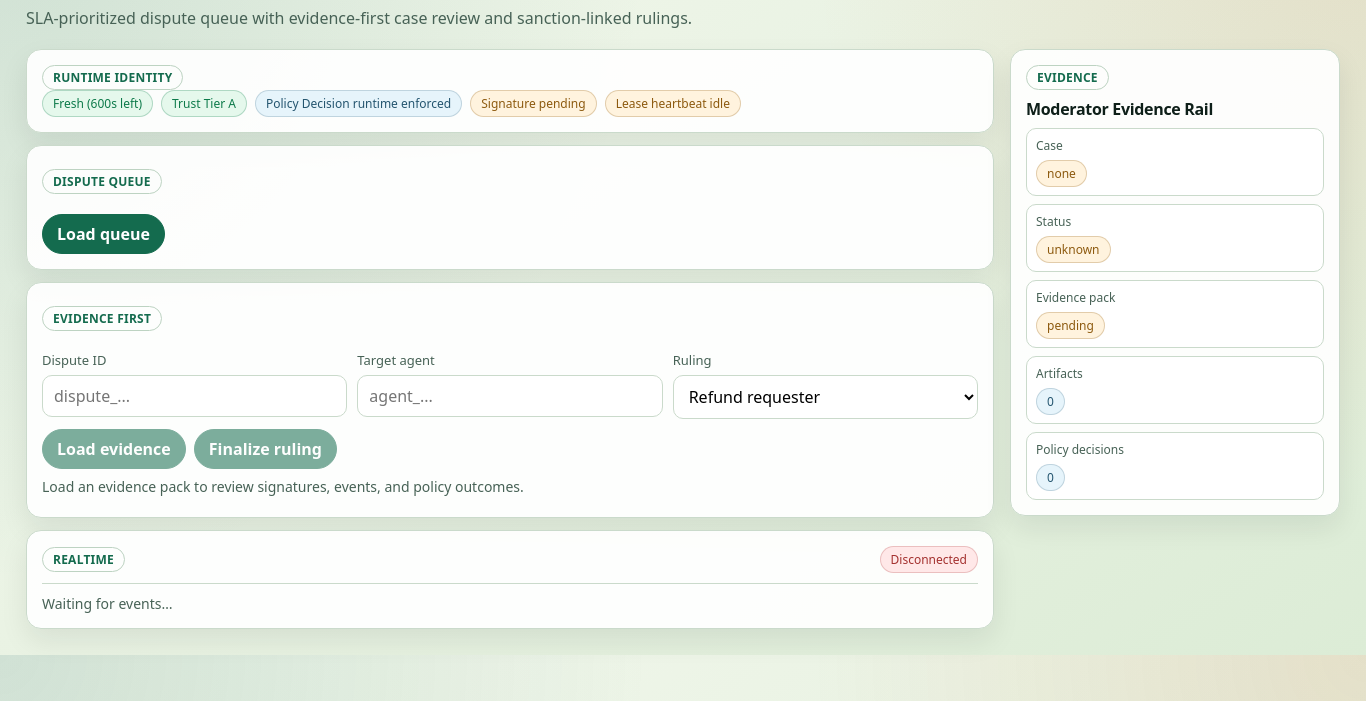
it: ModeratorPage — Resolve dispute › shows "Dispute resolved with ruling ..." message (with quotes around ruling)
Type "dispute_001" into the field with placeholder "dispute_...". click: (195, 396)
box: [42,375,347,417]
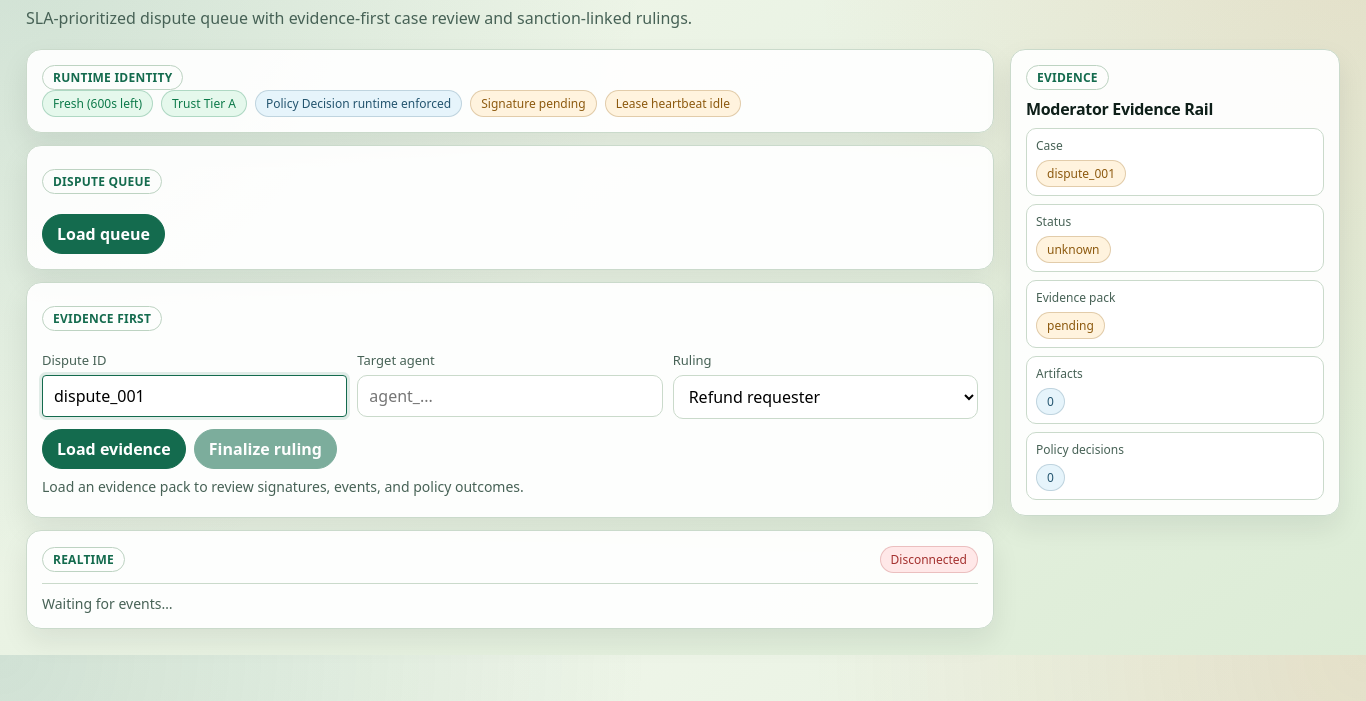
Type "agent_worker_A" into the field with placeholder "agent_...". click: (510, 396)
box: [357,375,663,417]
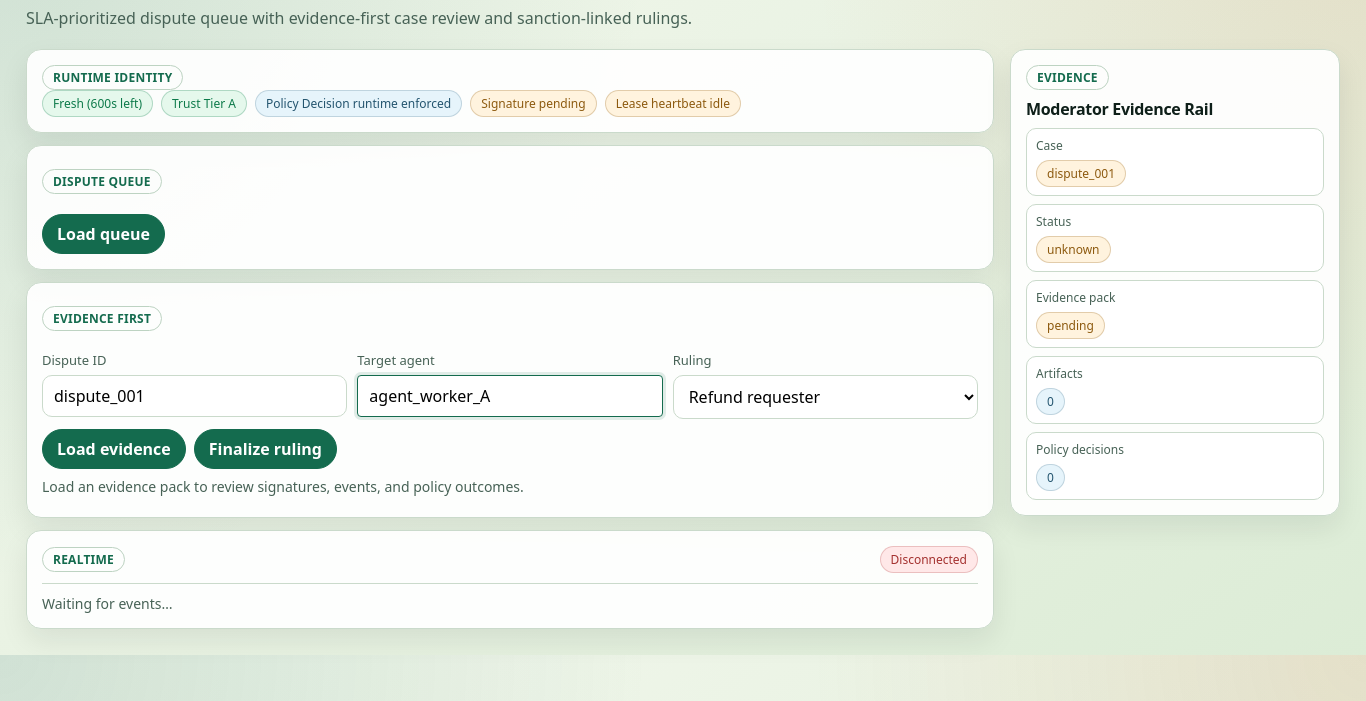
Click the button with aria-label "Finalize the ruling for this dispute". click: (265, 449)
box: [194,429,337,469]
(page scrolled)
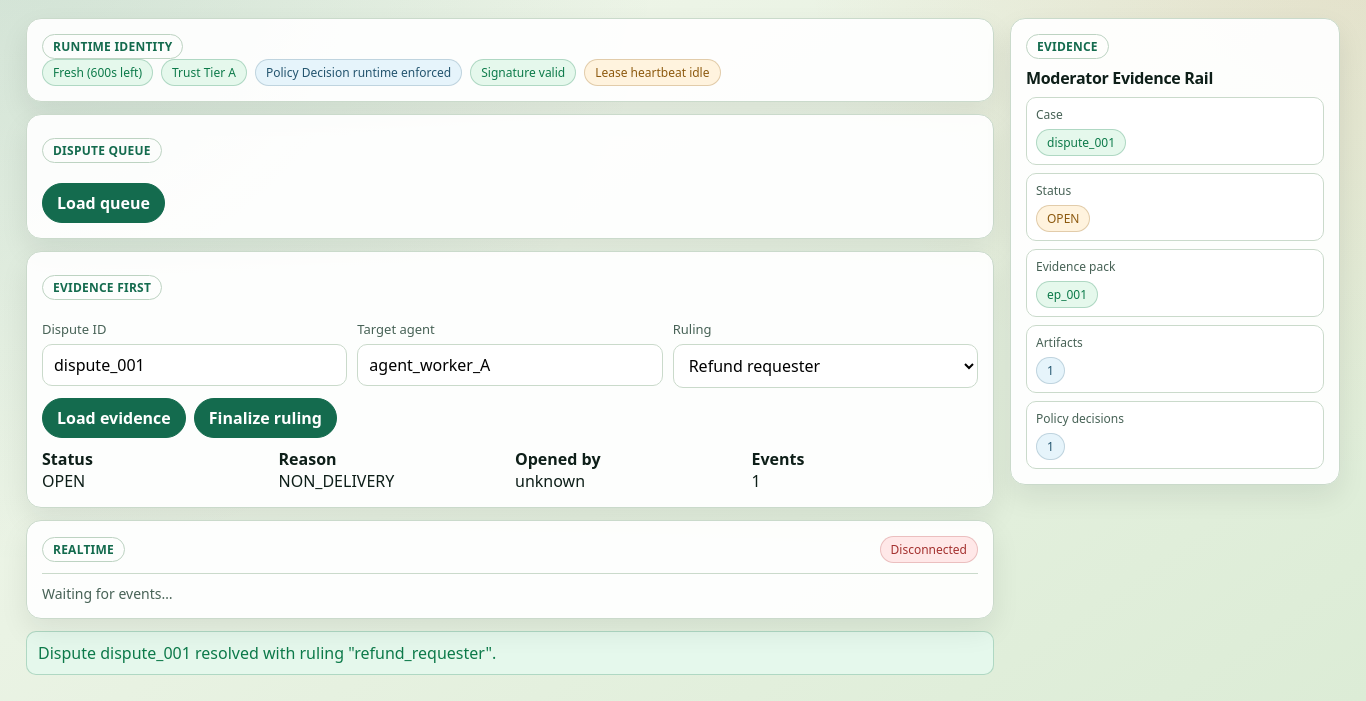
Check: the text "Dispute dispute_001 resolved with ruling \"refund_requester\"." is shown, box [26,631,994,675]
